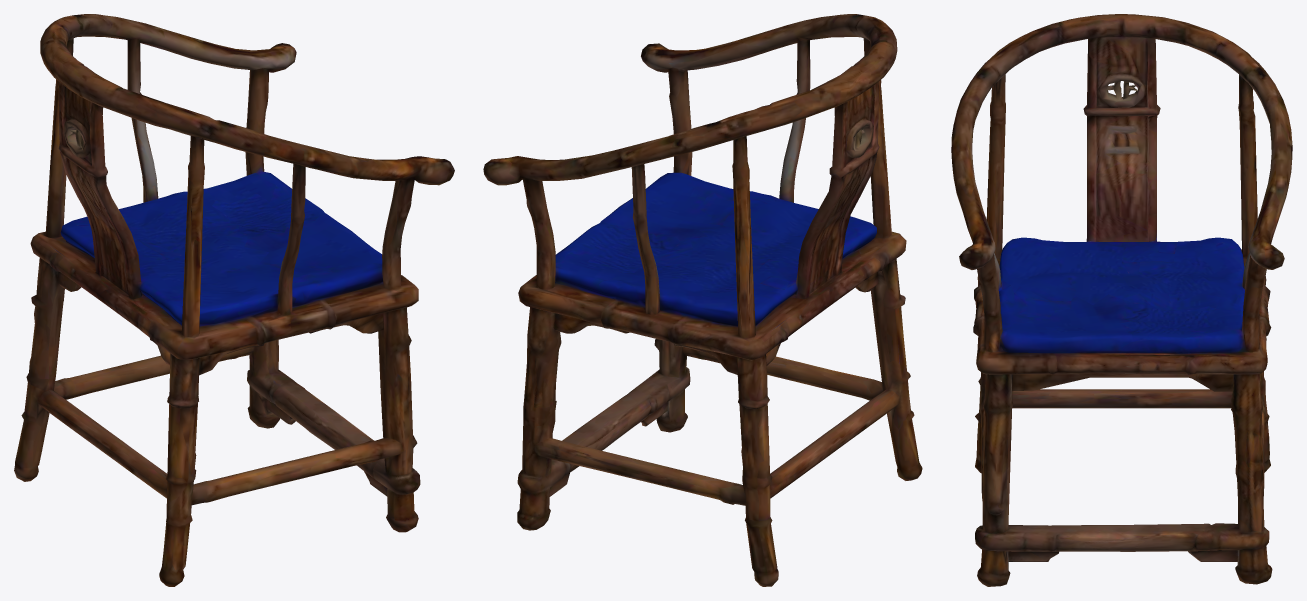
The model's file is guanmaoyi.glb.
3 views of the same model, side by side, from view 1: azimuth 30°, elevation 25°; view 2: azimuth 150°, elevation 25°; view 3: azimuth 270°, elevation 25° (orthographic). The views are drawn at different scales.
Parts seen in each view (by area): view 1: tripo_node_f79532ec-e0d6-4a14-9b4a-6aab4b9f7fbd; view 2: tripo_node_f79532ec-e0d6-4a14-9b4a-6aab4b9f7fbd; view 3: tripo_node_f79532ec-e0d6-4a14-9b4a-6aab4b9f7fbd.
Boxes of the visible parts, x1,y1,x2,y2 form: tripo_node_f79532ec-e0d6-4a14-9b4a-6aab4b9f7fbd: (14,14,454,586); tripo_node_f79532ec-e0d6-4a14-9b4a-6aab4b9f7fbd: (483,14,922,586); tripo_node_f79532ec-e0d6-4a14-9b4a-6aab4b9f7fbd: (951,14,1292,586).
Bounding box in the file's own units: 0.68 × 1 × 0.6856.
Materials: 1 (1 with a texture image).
